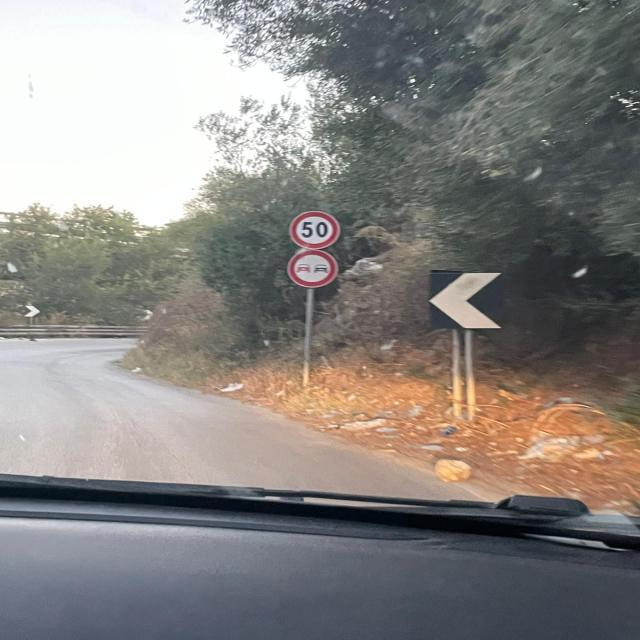forb_overtake: (286, 249, 343, 288)
forb_speed_over_50: (288, 210, 342, 250)
